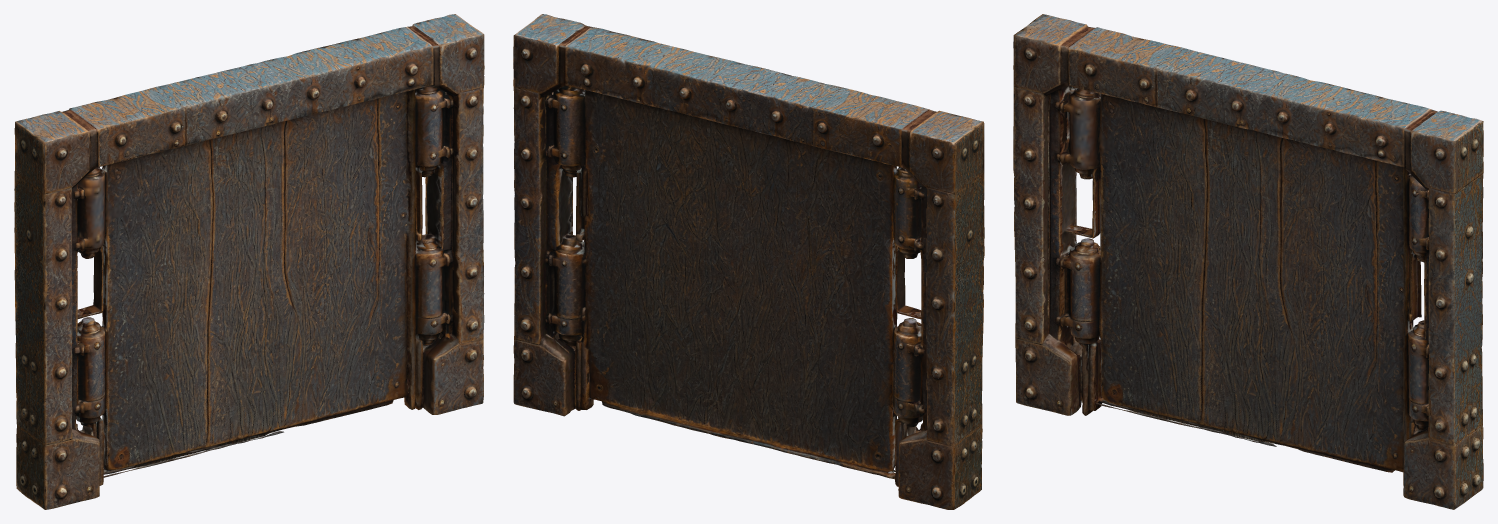
The model's file is BKI_BlastFrame.fbx.
3 renders of one model, left to right at view 1: azimuth 30°, elevation 25°; view 2: azimuth 150°, elevation 25°; view 3: azimuth 330°, elevation 25°, orthographic.
Parts seen in each view (by area): view 1: texture_mapping; view 2: texture_mapping; view 3: texture_mapping.
Boxes of the visible parts, left/top/right/bottom form: texture_mapping: left=14, top=14, right=484, bottom=509; texture_mapping: left=513, top=14, right=984, bottom=509; texture_mapping: left=1013, top=14, right=1483, bottom=509.
Size of the model in its own units: 0.9996 by 0.1357 by 0.8037.
1 material, 1 textured.
